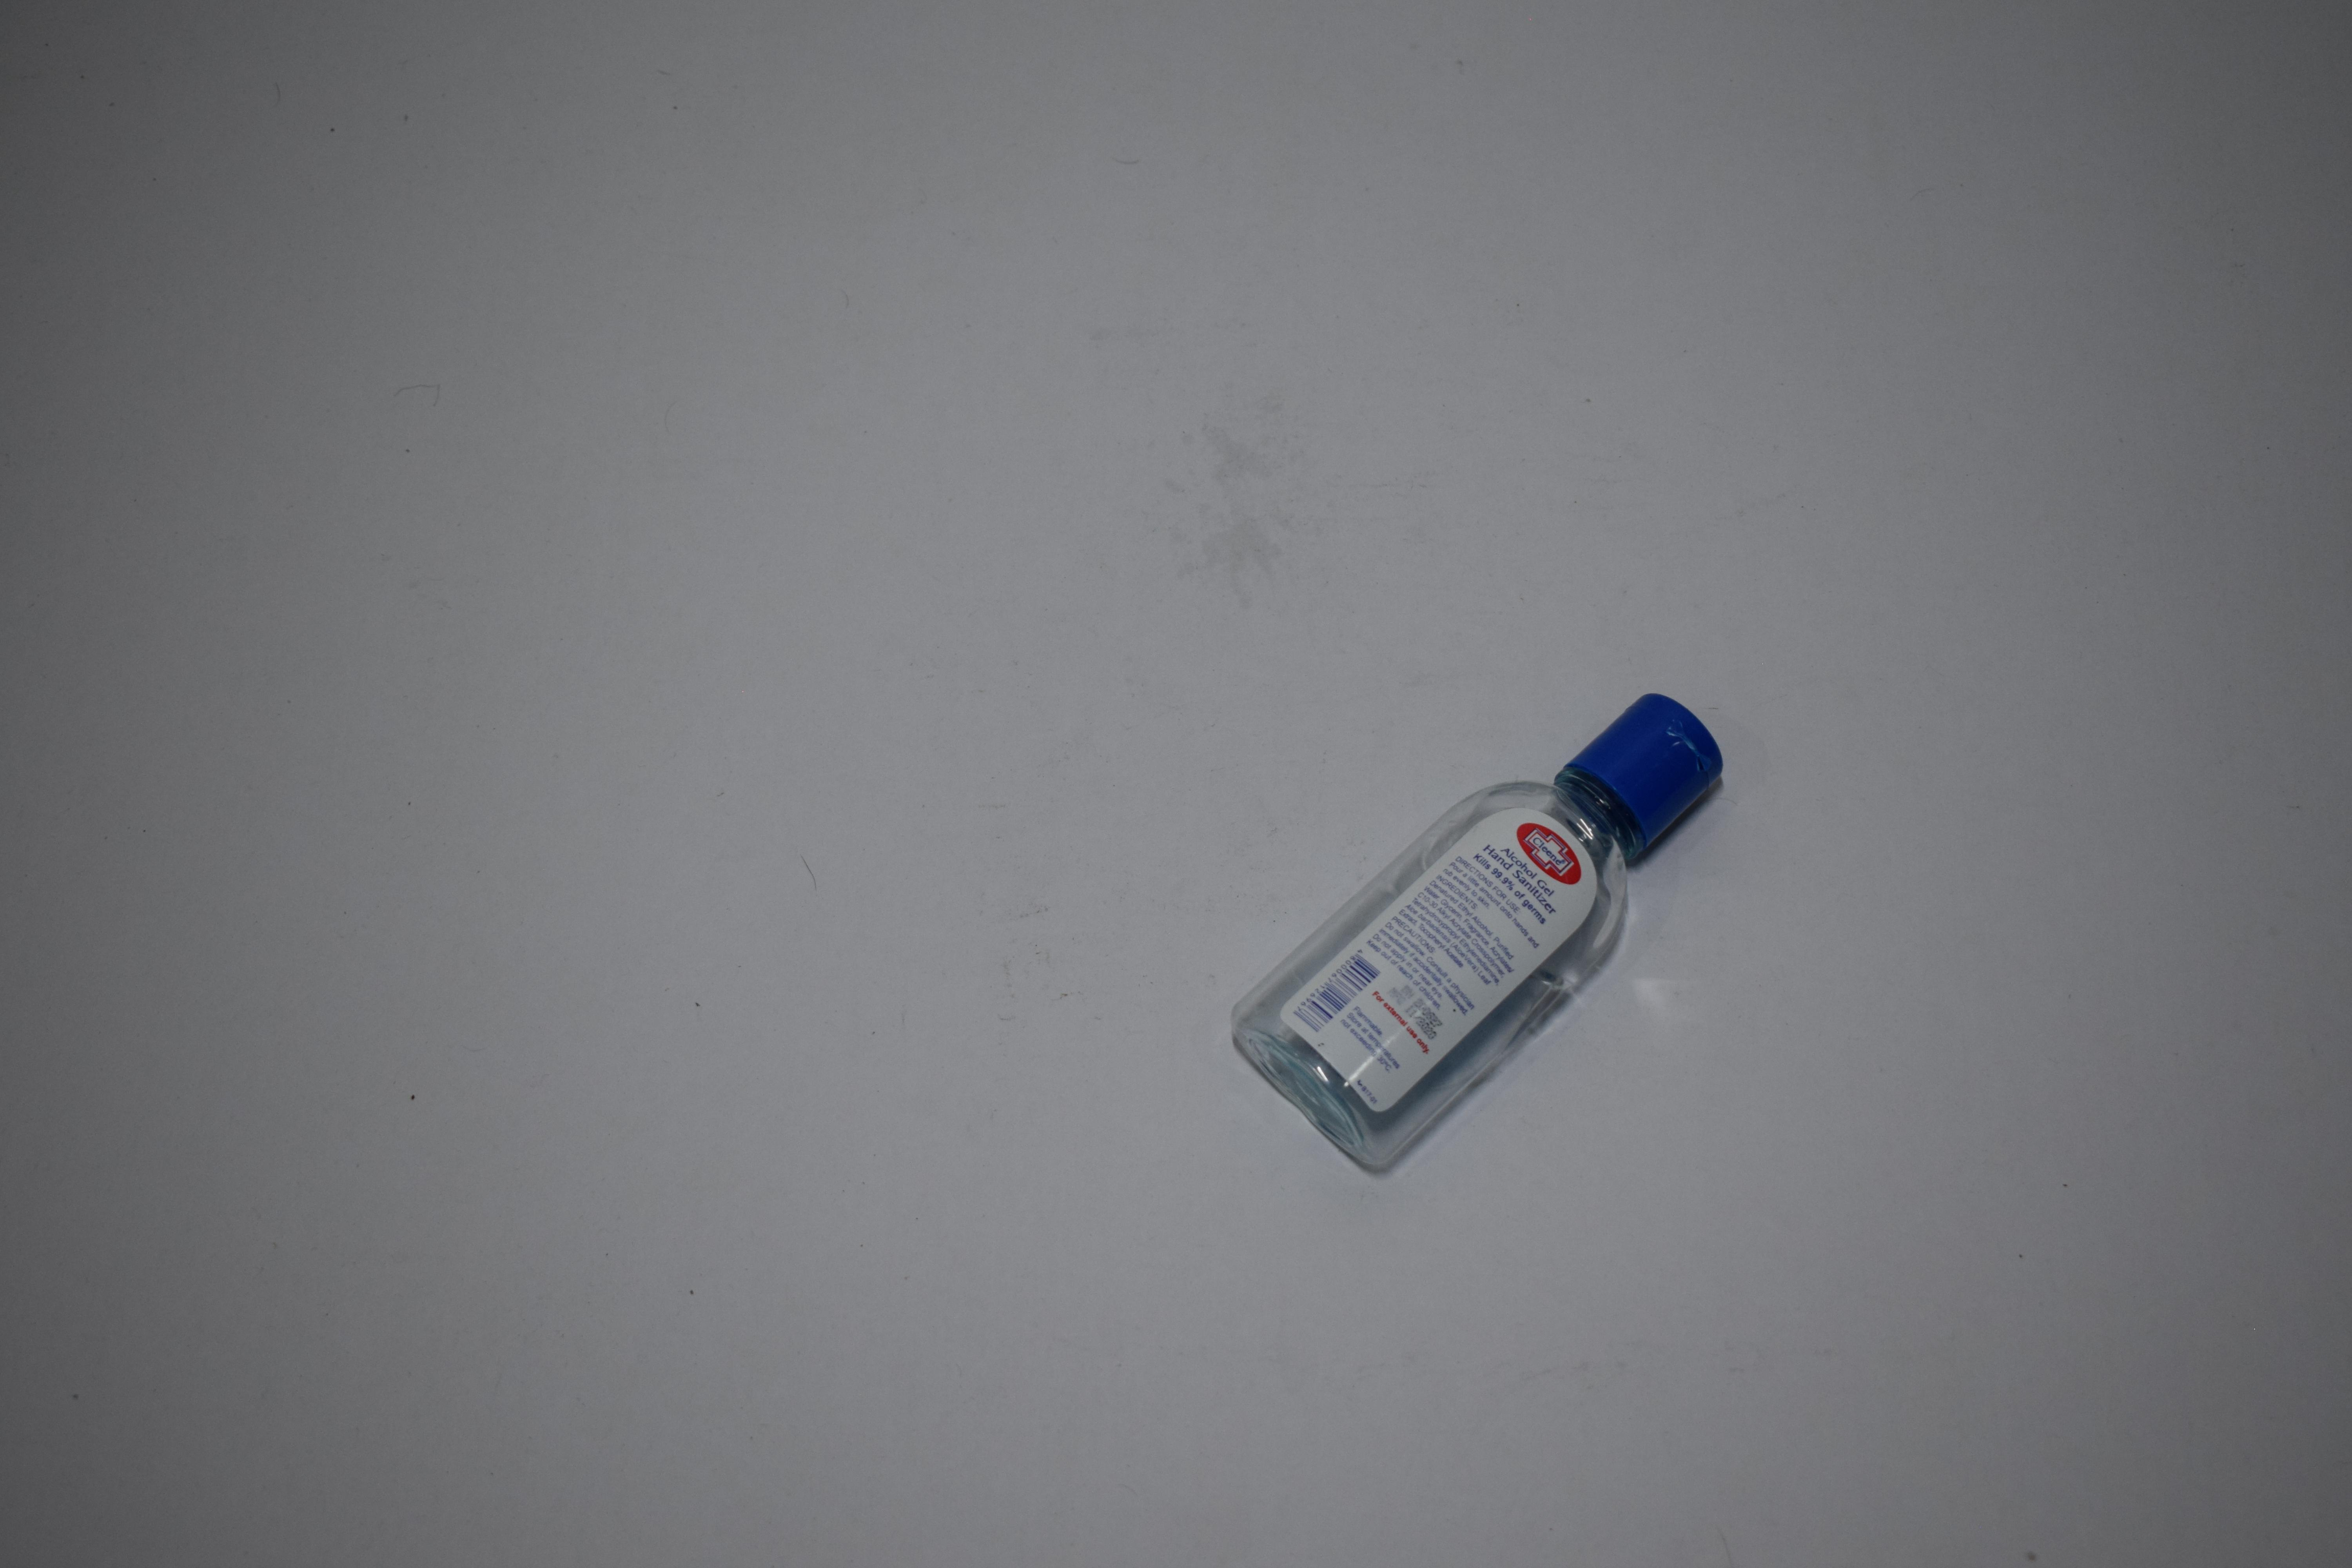bottle: (1220, 0, 1729, 399)
